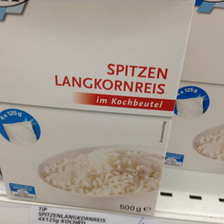rice: (1, 1, 195, 218)
